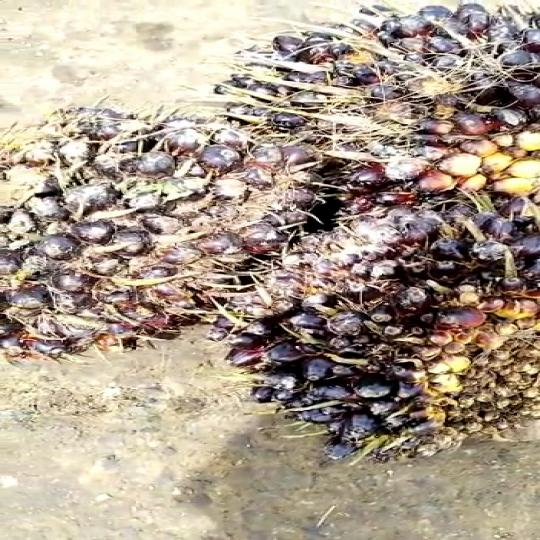mentah: (213, 201, 540, 447), (0, 104, 332, 341), (206, 0, 540, 226)
